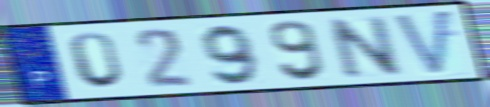0: (67, 30, 125, 91)
2: (135, 26, 196, 90)
9: (198, 22, 263, 86), (269, 18, 327, 83)
N: (323, 13, 405, 81)
V: (390, 7, 454, 78)
